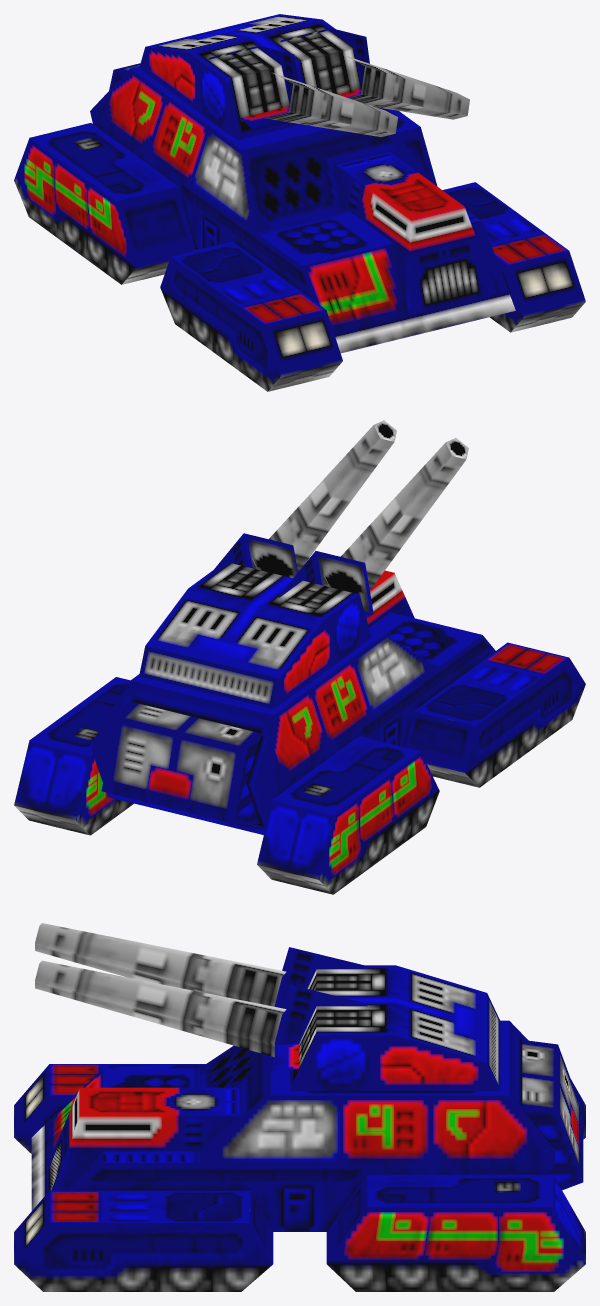
The model's file is mog.glb.
3 views of the same model, one above another, from view 1: azimuth 30°, elevation 25°; view 2: azimuth 150°, elevation 25°; view 3: azimuth 270°, elevation 25° (orthographic). The views are drawn at different scales.
Parts seen in each view (by area): view 1: MOG_Body, MOG_Treads, Mog_Turret, Mog_Guns; view 2: MOG_Treads, MOG_Body, Mog_Turret, Mog_Guns; view 3: MOG_Body, MOG_Treads, Mog_Guns, Mog_Turret.
Boxes of the visible parts, x1,y1,x2,y2 form: MOG_Body: [90, 63, 515, 353]; MOG_Treads: [14, 107, 585, 391]; Mog_Turret: [139, 14, 361, 139]; Mog_Guns: [208, 28, 469, 136]; MOG_Treads: [14, 642, 585, 894]; MOG_Body: [90, 570, 495, 834]; Mog_Turret: [139, 563, 371, 708]; Mog_Guns: [207, 420, 468, 617]; MOG_Body: [31, 1020, 583, 1231]; MOG_Treads: [14, 1064, 585, 1291]; Mog_Guns: [35, 923, 367, 1071]; Mog_Turret: [290, 965, 500, 1090].
Bounding box in the file's own units: 14.8 × 11.76 × 22.5.
1 material, 1 textured.
